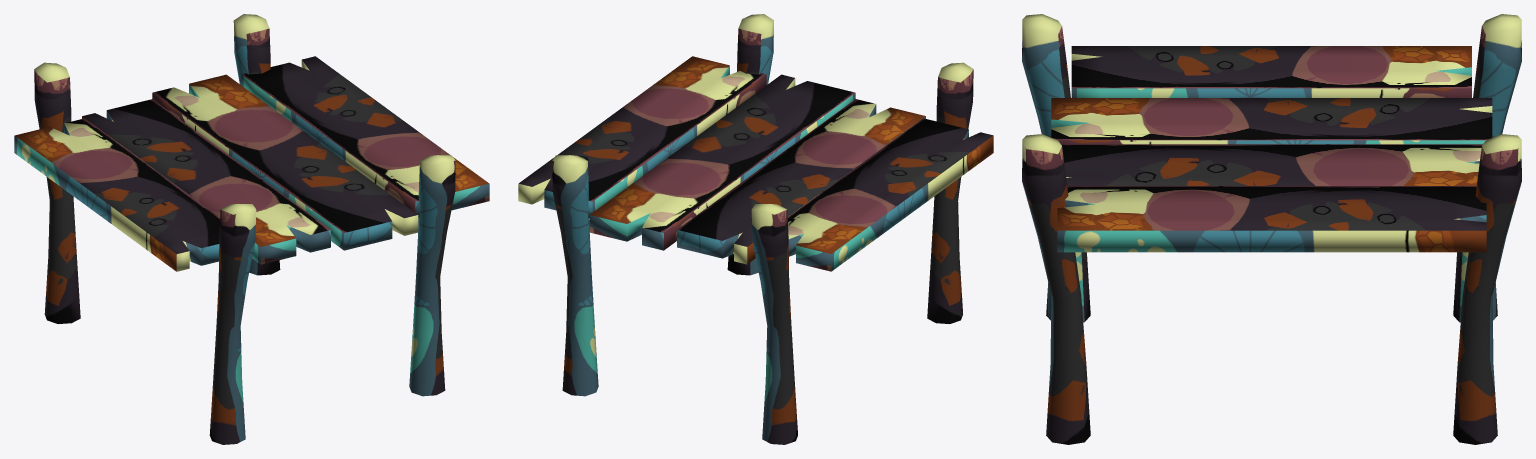
The model's file is path (1).fbx.
3 renders of one model, left to right at view 1: azimuth 30°, elevation 25°; view 2: azimuth 150°, elevation 25°; view 3: azimuth 270°, elevation 25°, orthographic. The views are drawn at different scales.
Parts seen in each view (by area): view 1: Cube.003; view 2: Cube.003; view 3: Cube.003.
Boxes of the visible parts, x1,y1,x2,y2 form: Cube.003: (14, 14, 489, 444); Cube.003: (518, 14, 993, 444); Cube.003: (1022, 14, 1521, 444).
Bounding box in the file's own units: 55 × 41.32 × 62.9.
